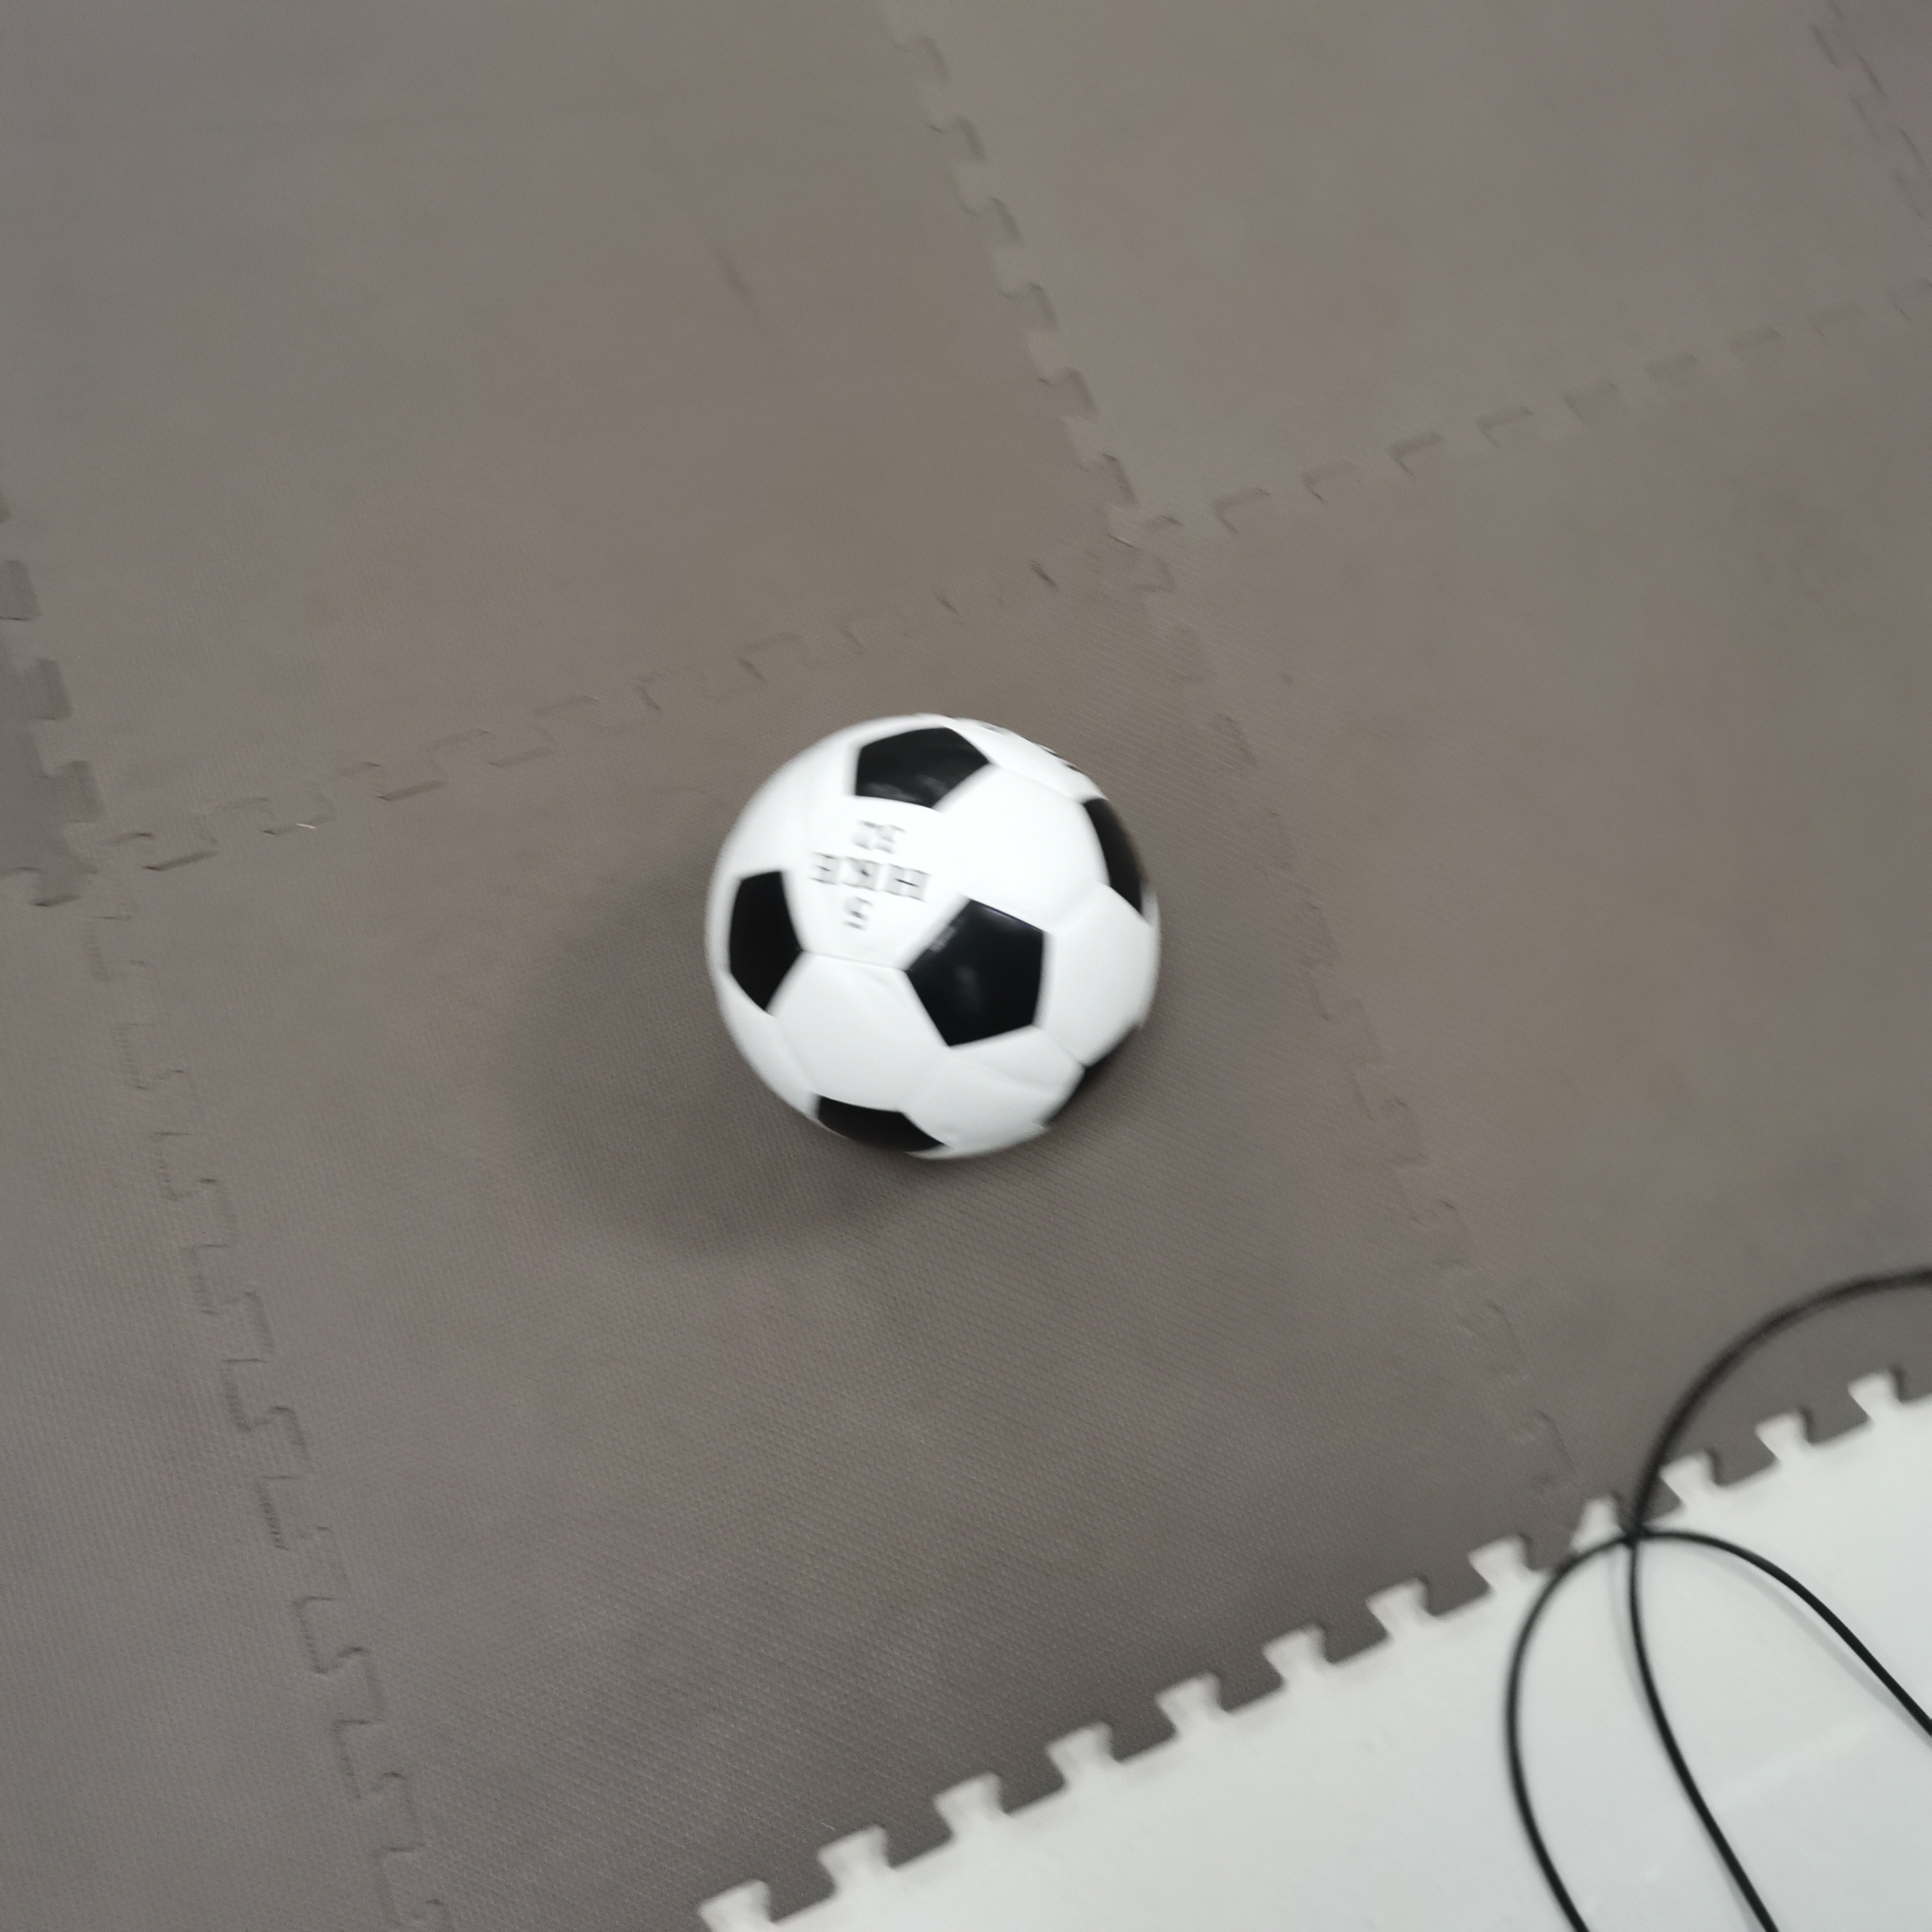football: (701, 711, 1164, 1169)
